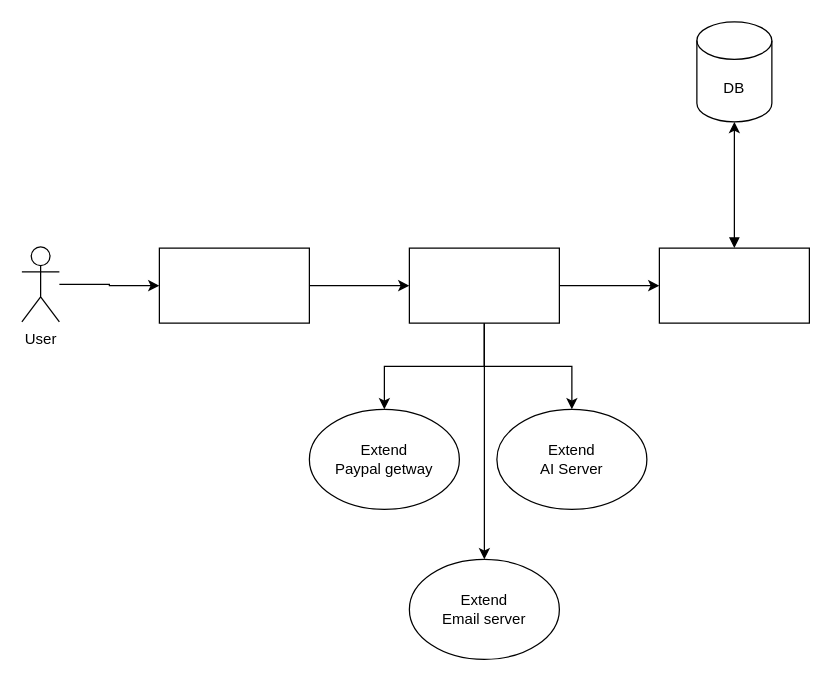
This 831x681 diagram has some shape labels left out. The box of each missing label's shape, as (x1, y1, x2, y2) in pixels:
Repositry: (658, 247, 809, 323)
Server: (408, 247, 559, 323)
UI: (158, 247, 309, 323)
